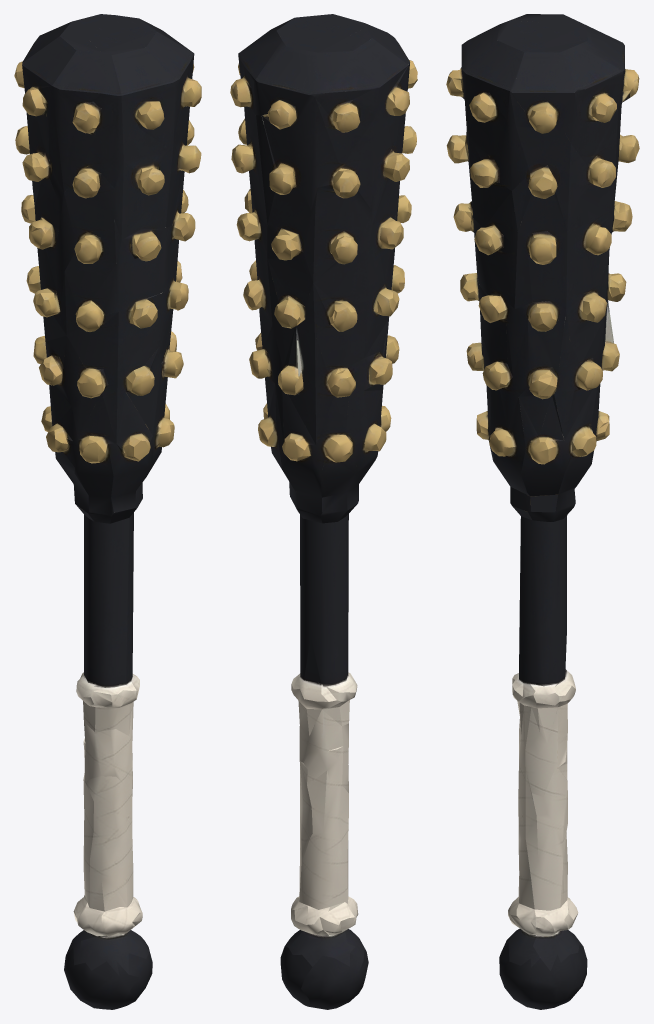
File: club.glb
3 renders of one model, left to right at view 1: azimuth 30°, elevation 25°; view 2: azimuth 150°, elevation 25°; view 3: azimuth 270°, elevation 25°, orthographic.
Size of the model in its own units: 0.3425 by 1.9 by 0.3419.
Materials: 1 (1 with a texture image).
